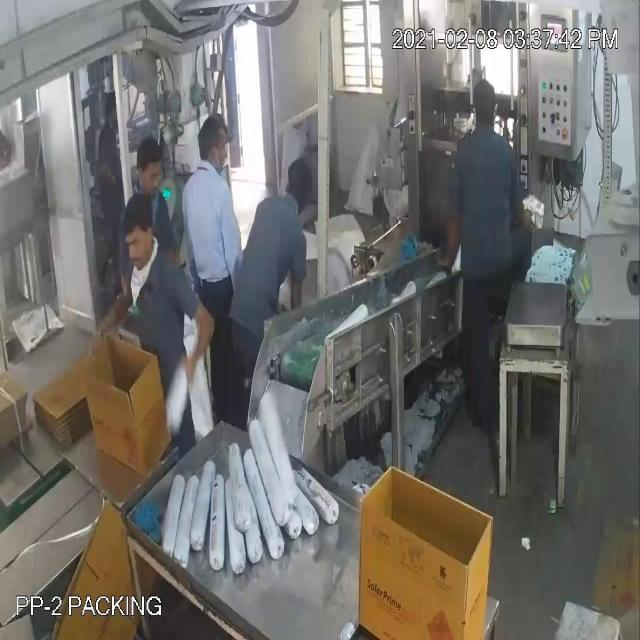No_Gloves: (48, 70, 197, 330)
